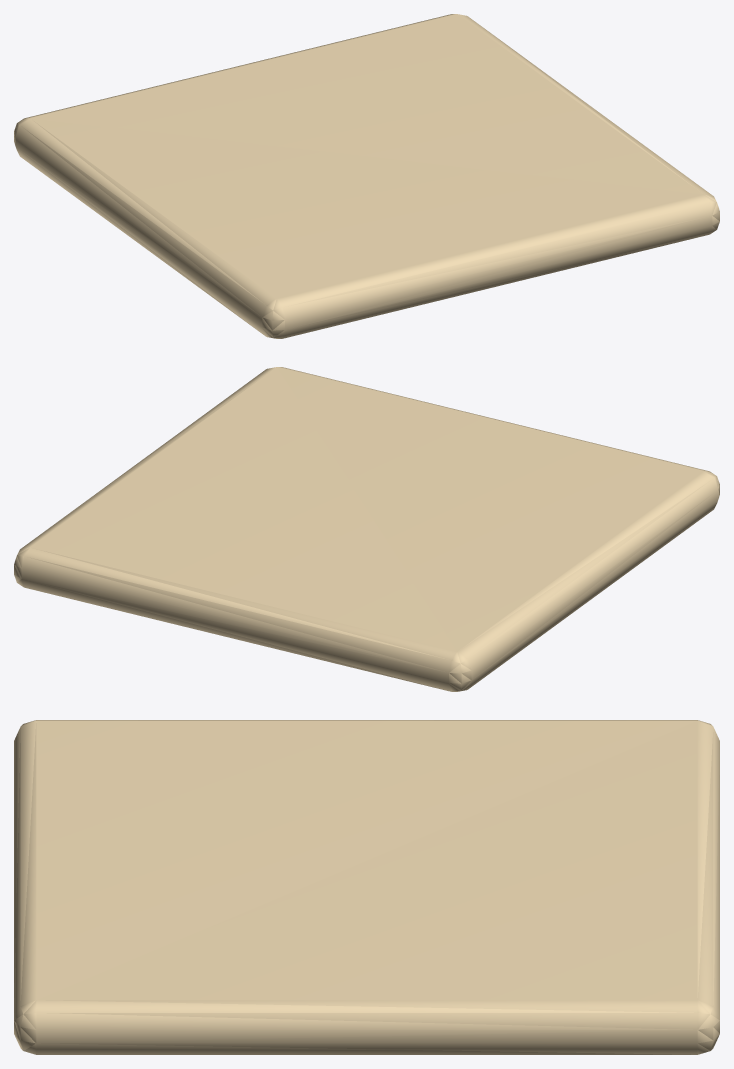
Rendered from DW_Tile_Sand.fbx.
3 views of the same model, one above another, from view 1: azimuth 30°, elevation 25°; view 2: azimuth 150°, elevation 25°; view 3: azimuth 270°, elevation 25° (orthographic). The views are drawn at different scales.
Parts seen in each view (by area): view 1: DW_Tile_Sand; view 2: DW_Tile_Sand; view 3: DW_Tile_Sand.
Part boxes in pixels (x1,y1,x2,y2): DW_Tile_Sand: (14,14,719,338); DW_Tile_Sand: (14,367,719,691); DW_Tile_Sand: (14,720,719,1054).
Bounding box in the file's own units: 0.95 × 0.08 × 0.95.
